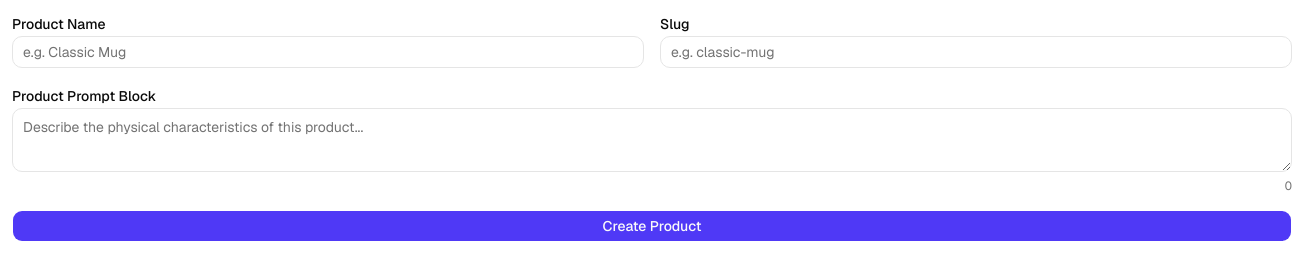
Test: ProductForm › auto-generates slug from name when creating
Type "My Awesome Product" into the field with placeholder "e.g. Classic Mug" at (328, 52), box [12,36,644,68]
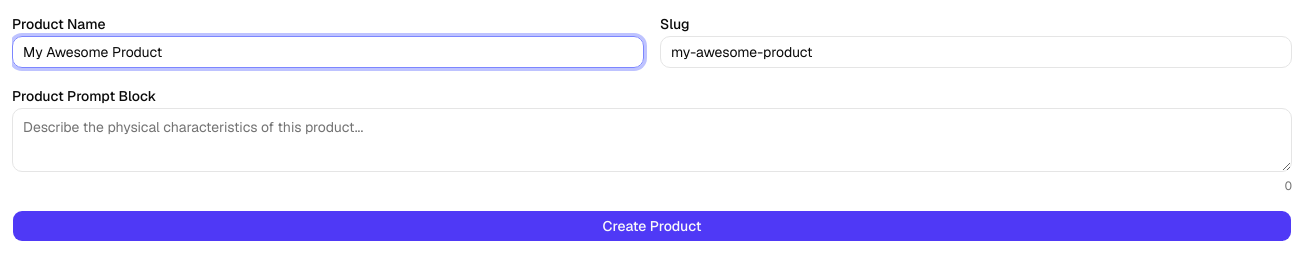
Expected: the field with placeholder "e.g. classic-mug" below "Slug" holds "my-awesome-product", [660,36,1292,68]
